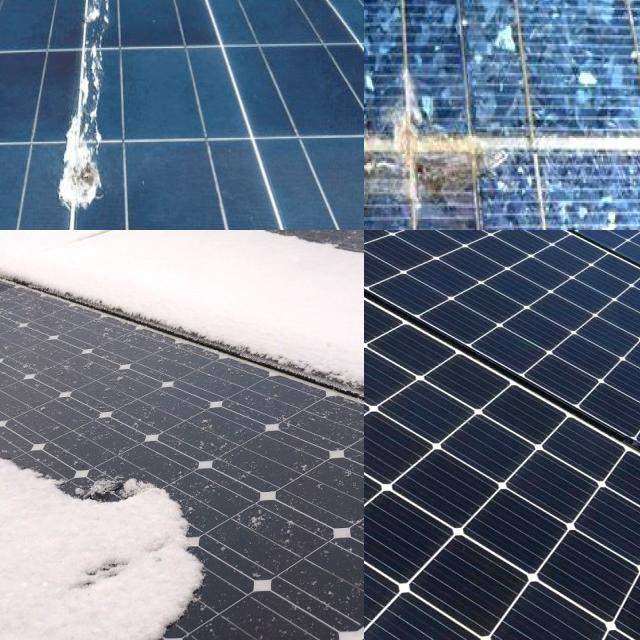bird: (57, 0, 118, 222)
crack: (364, 230, 640, 640), (364, 230, 640, 517), (402, 230, 640, 364), (364, 230, 633, 294), (364, 230, 557, 304), (402, 230, 640, 286)
panel: (0, 303, 95, 498), (109, 469, 204, 640), (134, 267, 265, 388), (0, 231, 120, 339), (272, 334, 364, 446), (0, 440, 104, 530), (0, 336, 50, 467), (203, 230, 283, 296), (0, 556, 48, 640), (89, 230, 184, 271), (297, 230, 362, 286), (0, 230, 64, 284), (0, 280, 32, 360), (0, 230, 72, 265), (133, 230, 211, 259), (274, 230, 349, 259), (0, 230, 54, 265), (0, 589, 36, 640), (0, 230, 30, 268), (216, 230, 260, 254), (3, 230, 55, 245), (0, 230, 31, 253), (0, 230, 23, 261), (81, 230, 135, 241), (0, 230, 39, 243)
shadow: (364, 55, 522, 230)
